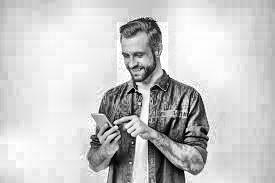happy: (118, 22, 169, 85)
